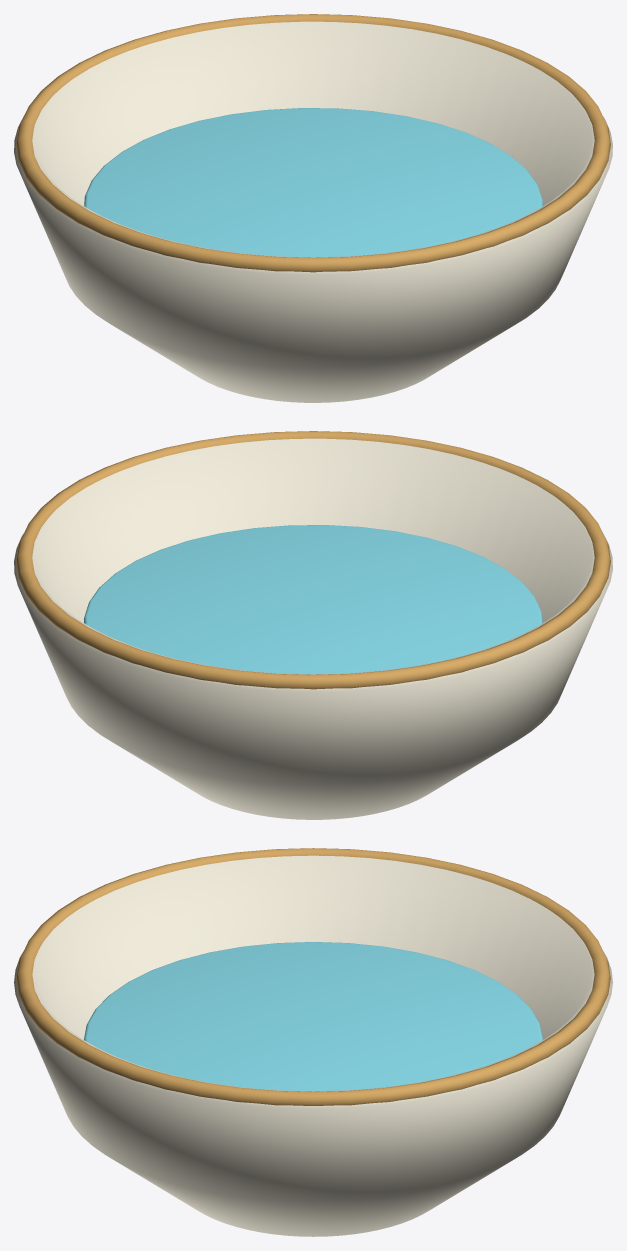
Rendered from DessertBowl.glb.
The picture shows the model from 3 angles, top to bottom: view 1: azimuth 30°, elevation 25°; view 2: azimuth 150°, elevation 25°; view 3: azimuth 270°, elevation 25°; orthographic projection.
Parts seen in each view (by area): view 1: Bowl, FrozenSorbet, GiltRim; view 2: Bowl, FrozenSorbet, GiltRim; view 3: Bowl, FrozenSorbet, GiltRim.
Boxes of the visible parts, bbox=[...] form: Bowl: bbox=[14, 21, 612, 402]; FrozenSorbet: bbox=[84, 108, 542, 257]; GiltRim: bbox=[16, 14, 610, 272]; Bowl: bbox=[14, 438, 612, 819]; FrozenSorbet: bbox=[84, 525, 542, 674]; GiltRim: bbox=[16, 431, 610, 689]; Bowl: bbox=[14, 855, 612, 1236]; FrozenSorbet: bbox=[84, 942, 542, 1091]; GiltRim: bbox=[16, 848, 610, 1105].
Size of the model in its own units: 4.3 by 1.65 by 4.3.
